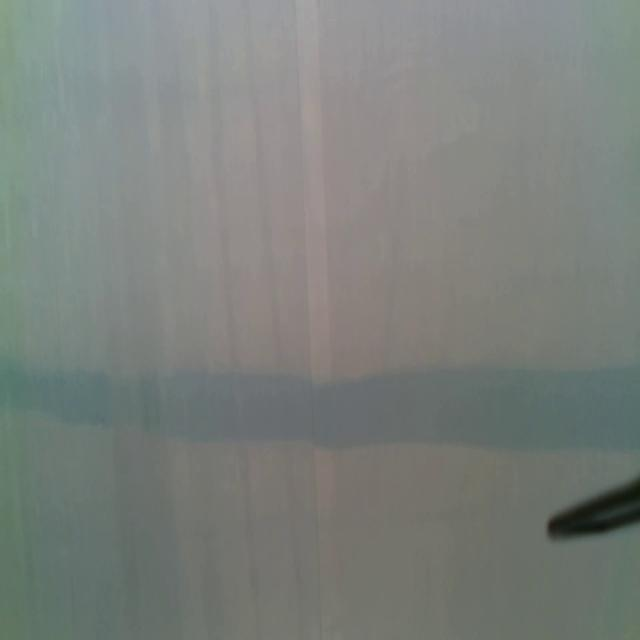color bleeding: (0, 356, 640, 458)
crease: (294, 0, 326, 640)
